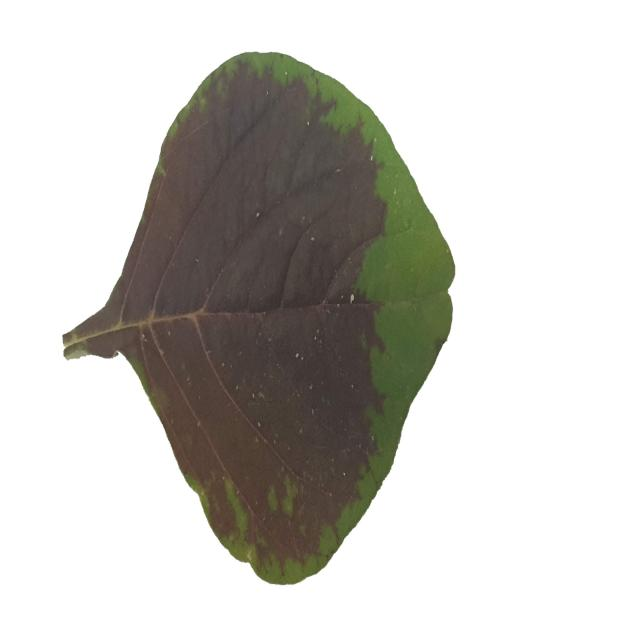Medicinal-Arive Dantu: (62, 52, 455, 585)
